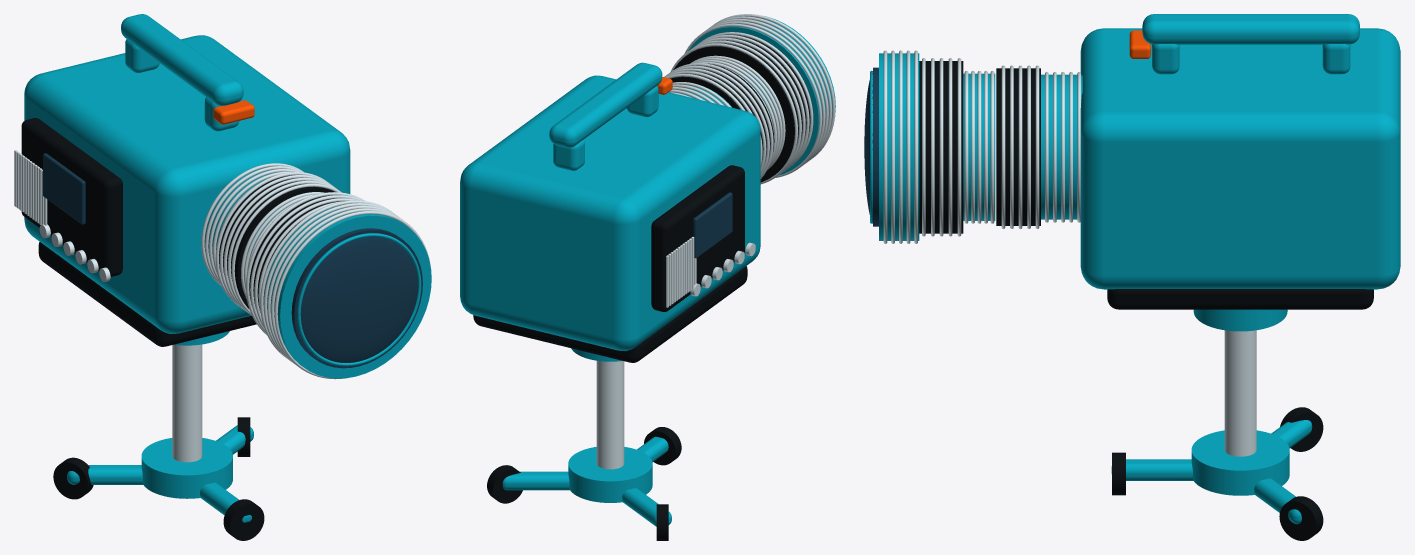
The model's file is BROADCAST_CAMERA.glb.
The picture shows the model from 3 angles, left to right: view 1: azimuth 30°, elevation 25°; view 2: azimuth 150°, elevation 25°; view 3: azimuth 270°, elevation 25°; orthographic projection. The views are drawn at different scales.
Visible parts, largest first — view 1: Broadcast_camera_body, Convex_coated_lens, Side_housing, Lens_barrel_4, Top_handle, Pedestal_base, Pedestal_column, Shoulder_pad, Lens_barrel_1, Side_display, Optical_front_element, Lens_blue_optical_edge (+28 smaller); view 2: Broadcast_camera_body, Side_housing, Top_handle, Shoulder_pad, Pedestal_base, Pedestal_column, Lens_barrel_3, Lens_barrel_4, Side_display, Lens_barrel_1, Dolly_leg_1, Lens_focus_ring_4-0 (+23 smaller); view 3: Broadcast_camera_body, Top_handle, Shoulder_pad, Lens_barrel_3, Lens_barrel_4, Lens_barrel_1, Pedestal_base, Pedestal_column, Lens_barrel_0, Lens_barrel_2, Fluid_head, Dolly_leg_0 (+25 smaller).
Boxes of the visible parts, box(x1,y1,x2,y2) form: Broadcast_camera_body: box(24, 35, 350, 333); Convex_coated_lens: box(297, 232, 418, 362); Side_housing: box(21, 118, 122, 276); Lens_barrel_4: box(263, 206, 431, 378); Top_handle: box(121, 14, 243, 105); Pedestal_base: box(141, 438, 232, 498); Pedestal_column: box(172, 344, 202, 462); Shoulder_pad: box(38, 242, 256, 346); Lens_barrel_1: box(219, 175, 335, 309); Side_display: box(43, 153, 85, 224); Optical_front_element: box(291, 228, 422, 368); Lens_blue_optical_edge: box(297, 233, 421, 366); Broadcast_camera_body: box(460, 75, 760, 351); Side_housing: box(651, 165, 744, 311); Top_handle: box(549, 62, 662, 147); Shoulder_pad: box(473, 266, 747, 362); Pedestal_base: box(568, 447, 652, 502); Pedestal_column: box(596, 360, 624, 469); Lens_barrel_3: box(673, 35, 810, 182); Lens_barrel_4: box(688, 16, 835, 175); Side_display: box(693, 192, 732, 258); Lens_barrel_1: box(670, 63, 774, 159); Dolly_leg_1: box(502, 471, 569, 490); Lens_focus_ring_4-0: box(684, 23, 822, 177); Broadcast_camera_body: box(1080, 28, 1400, 289); Top_handle: box(1142, 14, 1359, 44); Shoulder_pad: box(1107, 289, 1373, 309); Lens_barrel_3: box(919, 61, 963, 233); Lens_barrel_4: box(879, 53, 919, 240); Lens_barrel_1: box(996, 68, 1040, 225); Pedestal_base: box(1191, 430, 1289, 495); Pedestal_column: box(1224, 330, 1256, 456); Lens_barrel_0: box(1041, 74, 1082, 219); Lens_barrel_2: box(963, 73, 995, 220); Fluid_head: box(1193, 309, 1287, 331); Dolly_leg_0: box(1111, 459, 1193, 480).
Bounding box in the file's own units: 1.26 × 2.46 × 2.51.
